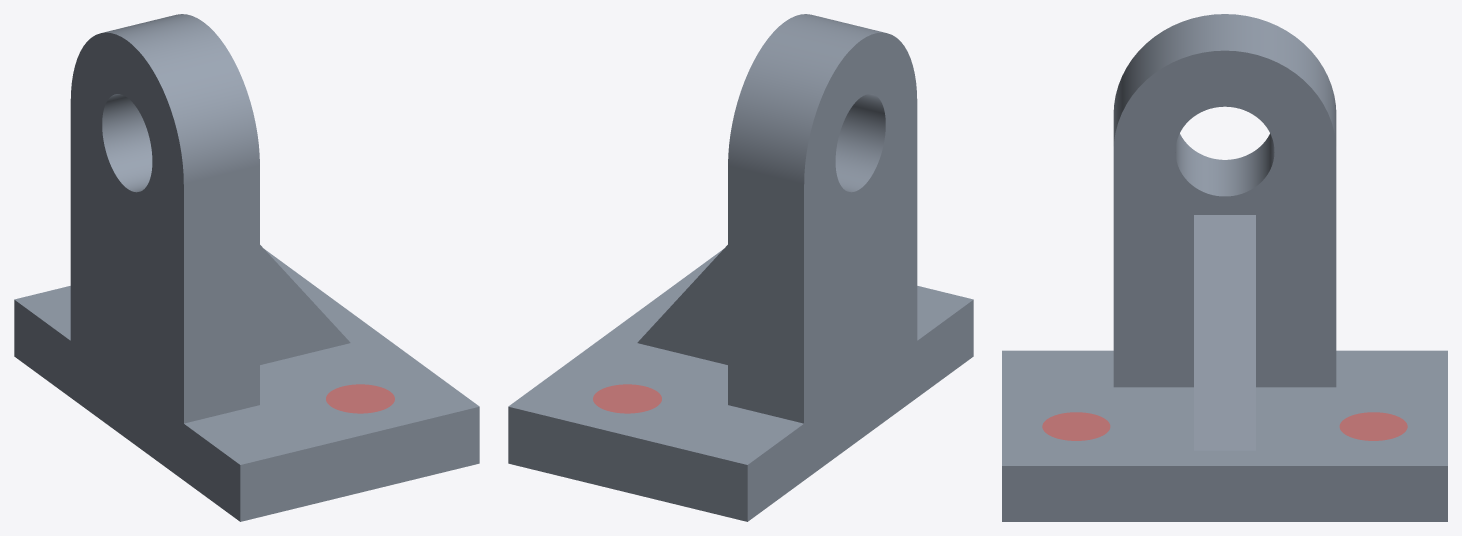
File: step_08.glb
3 views of the same model, side by side, from view 1: azimuth 30°, elevation 25°; view 2: azimuth 150°, elevation 25°; view 3: azimuth 270°, elevation 25° (orthographic).
Parts seen in each view (by area): view 1: part__bracket (right), removed__bracket (right); view 2: part__bracket (right), removed__bracket (right); view 3: part__bracket (right), removed__bracket (right).
Part boxes in pixels (x1,y1,x2,y2): part__bracket (right): [14, 14, 479, 521]; removed__bracket (right): [326, 384, 394, 413]; part__bracket (right): [508, 14, 973, 521]; removed__bracket (right): [593, 384, 661, 413]; part__bracket (right): [1002, 14, 1447, 521]; removed__bracket (right): [1042, 412, 1407, 440].
Bounding box in the file's own units: 44 × 70 × 72.
